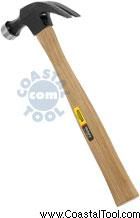hammer: (0, 0, 139, 207)
